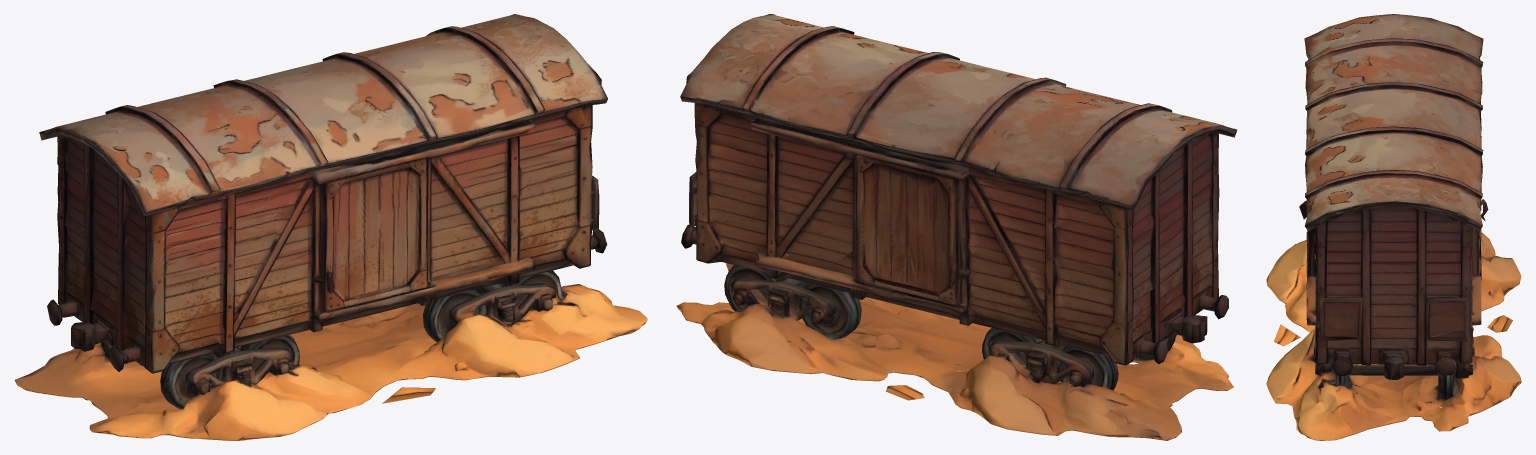
File: wl_wagon.glb
The picture shows the model from 3 angles, left to right: view 1: azimuth 30°, elevation 25°; view 2: azimuth 150°, elevation 25°; view 3: azimuth 270°, elevation 25°; orthographic projection. The views are drawn at different scales.
Visible parts, largest first — view 1: wl_wagon; view 2: wl_wagon; view 3: wl_wagon.
Boxes of the visible parts, left/top/right/bottom form: wl_wagon: left=14, top=14, right=647, bottom=440; wl_wagon: left=676, top=14, right=1237, bottom=440; wl_wagon: left=1266, top=14, right=1521, bottom=440.
Bounding box in the file's own units: 1 × 0.475 × 0.4908.
Materials: 1 (1 with a texture image).
